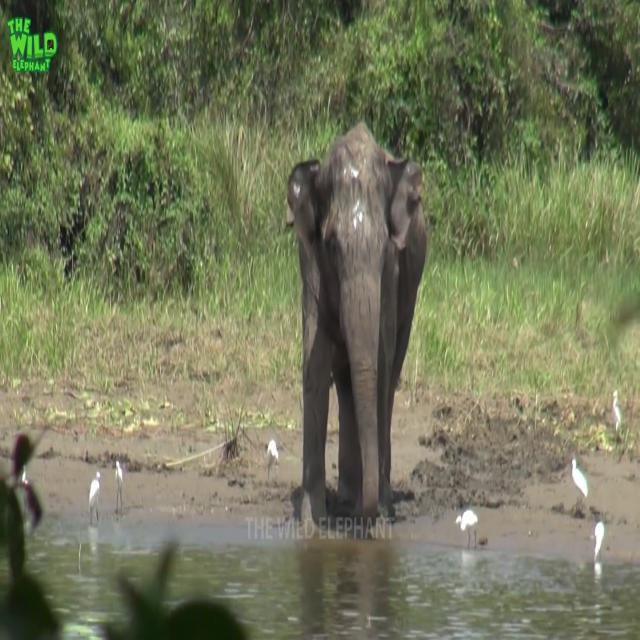Elephant: (285, 120, 427, 530)
